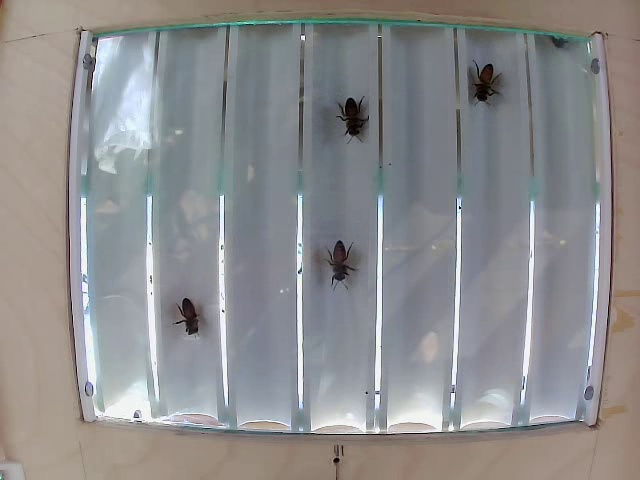bee: (330, 86, 377, 160), (316, 240, 364, 292), (161, 304, 209, 346), (467, 55, 502, 109)
